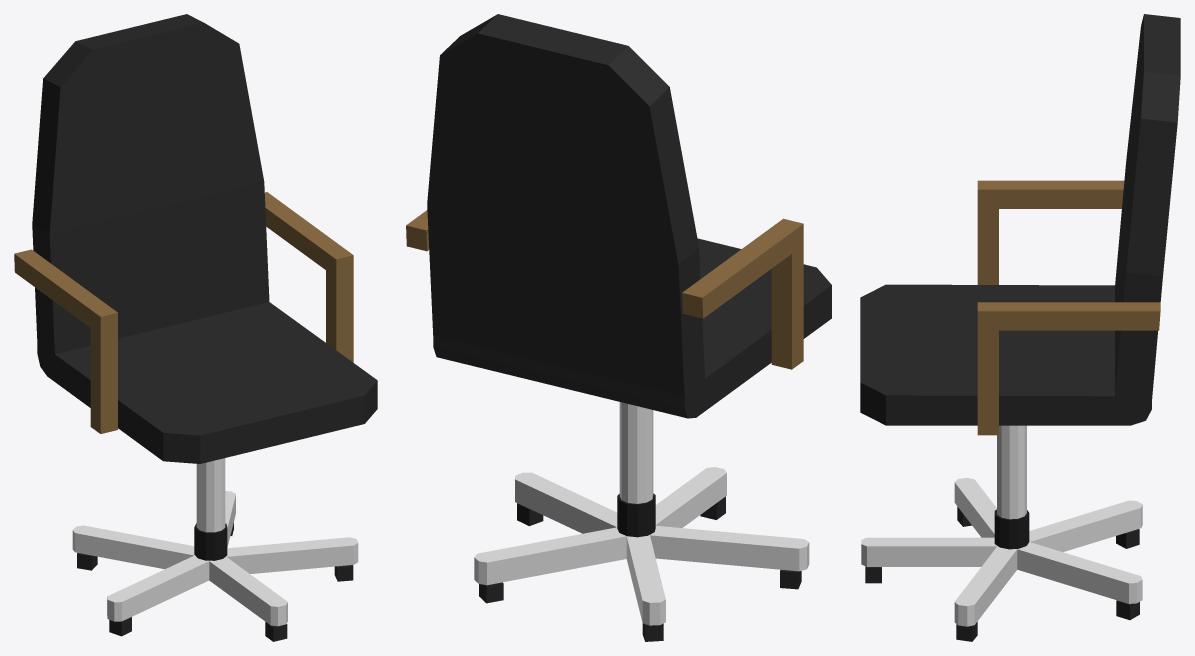
The model's file is Armchair.fbx.
3 renders of one model, left to right at view 1: azimuth 30°, elevation 25°; view 2: azimuth 150°, elevation 25°; view 3: azimuth 270°, elevation 25°, orthographic. The views are drawn at different scales.
Visible parts, largest first — view 1: Armchair; view 2: Armchair; view 3: Armchair.
Part boxes in pixels (<box>): Armchair: <box>14,14,377,641</box>; Armchair: <box>406,14,831,641</box>; Armchair: <box>860,14,1180,641</box>.
Size of the model in its own units: 1716 by 3287 by 1779.
